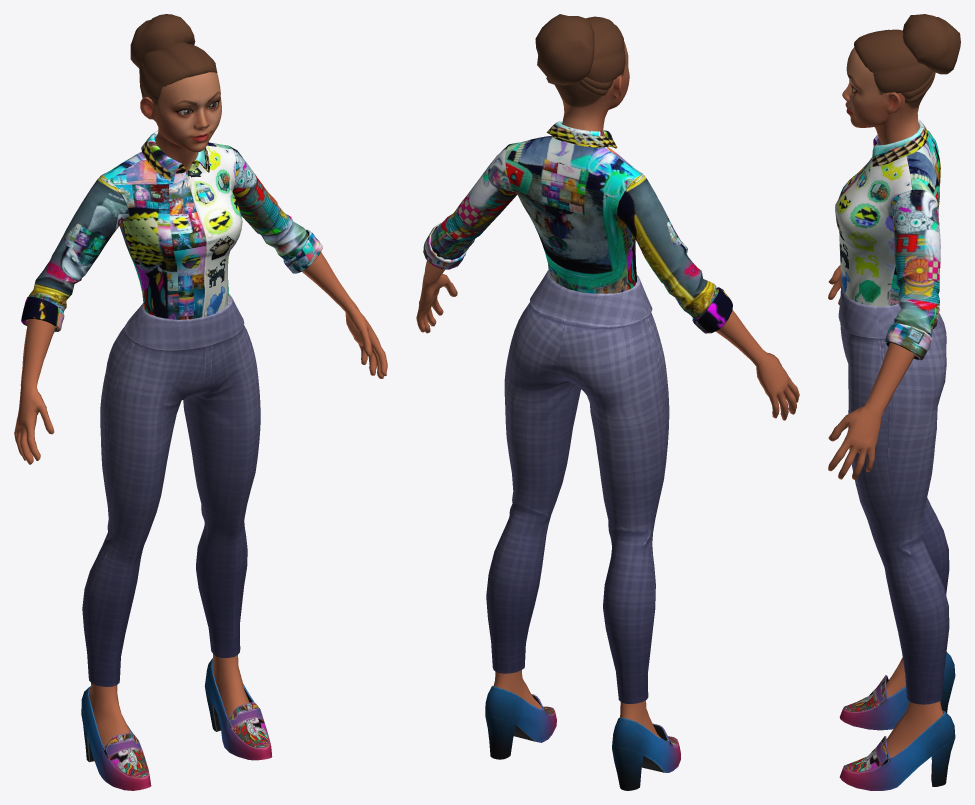
Rendered from NPC5.fbx.
3 views of the same model, side by side, from view 1: azimuth 30°, elevation 25°; view 2: azimuth 150°, elevation 25°; view 3: azimuth 270°, elevation 25° (orthographic). The views are drawn at different scales.
Visible parts, largest first — view 1: Wolf3D_Outfit_Top.002; view 2: Wolf3D_Outfit_Top.002; view 3: Wolf3D_Outfit_Top.002.
Boxes of the visible parts, x1,y1,x2,y2 form: Wolf3D_Outfit_Top.002: (14,14,387,790); Wolf3D_Outfit_Top.002: (416,14,799,790); Wolf3D_Outfit_Top.002: (828,14,960,790).
Bounding box in the file's own units: 92.79 × 179 × 29.24.
Materials: 8 (8 with a texture image).
